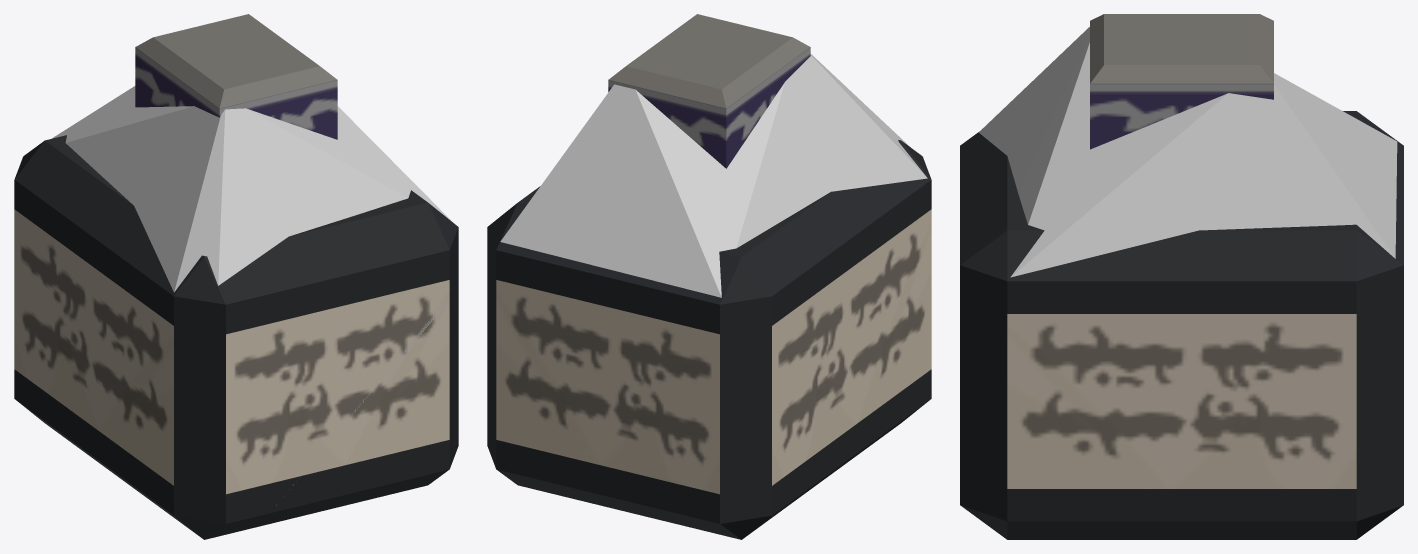
Rendered from SM_Item_Inkwell_01.fbx.
3 renders of one model, left to right at view 1: azimuth 30°, elevation 25°; view 2: azimuth 150°, elevation 25°; view 3: azimuth 270°, elevation 25°, orthographic. The views are drawn at different scales.
Parts seen in each view (by area): view 1: SM_Item_Inkwell_01, SM_Item_Inkwell_01_ConvexHulls; view 2: SM_Item_Inkwell_01, SM_Item_Inkwell_01_ConvexHulls; view 3: SM_Item_Inkwell_01, SM_Item_Inkwell_01_ConvexHulls.
Boxes of the visible parts, box(x1,y1,x2,y2) form: SM_Item_Inkwell_01: box(14, 14, 458, 539); SM_Item_Inkwell_01_ConvexHulls: box(51, 86, 453, 505); SM_Item_Inkwell_01: box(487, 14, 931, 539); SM_Item_Inkwell_01_ConvexHulls: box(500, 54, 927, 297); SM_Item_Inkwell_01: box(960, 14, 1403, 539); SM_Item_Inkwell_01_ConvexHulls: box(979, 27, 1397, 277).
Bounding box in the file's own units: 8.2 × 10.12 × 11.09.
Materials: 2 (1 with a texture image).
